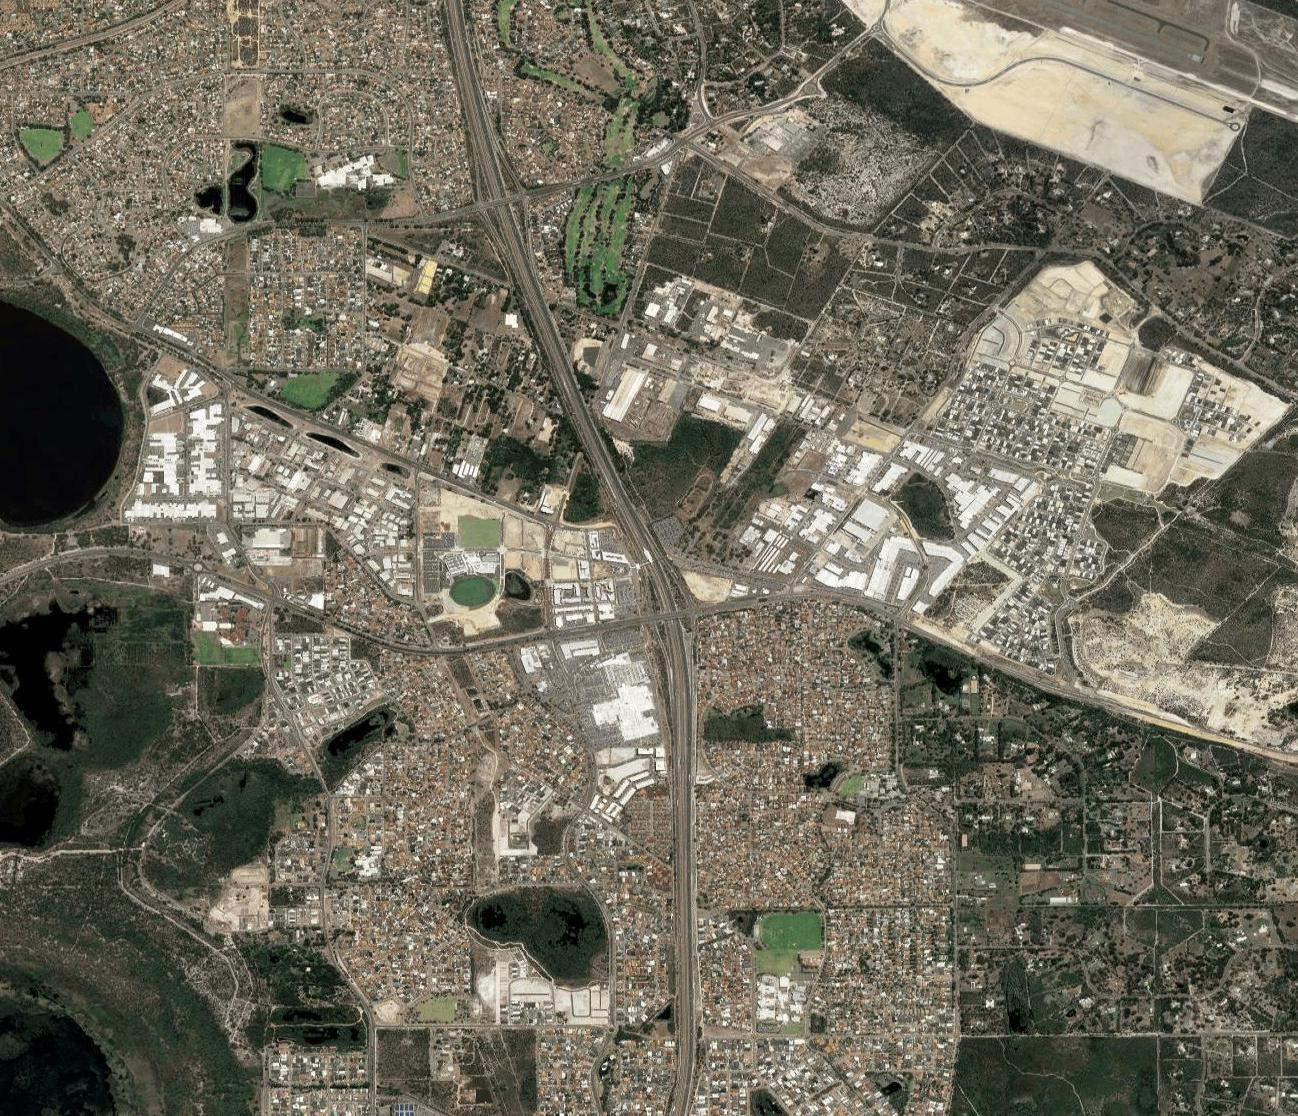industrial: (124, 364, 406, 576), (775, 436, 981, 608), (583, 651, 660, 817)
motorway: (661, 709, 703, 1116), (637, 532, 699, 711), (572, 401, 642, 534), (471, 144, 535, 276), (513, 274, 579, 402), (441, 1, 491, 141)
train_station: (641, 542, 657, 568)
